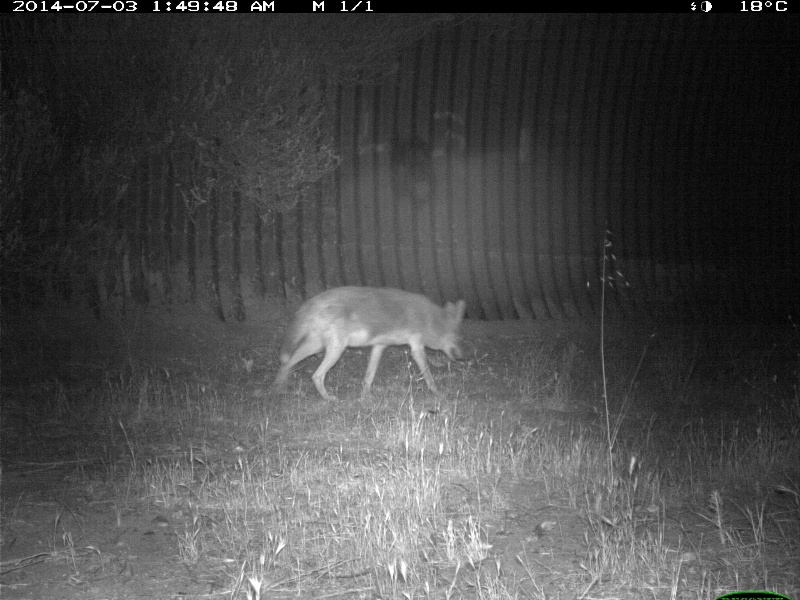coyote: (269, 284, 470, 403)
